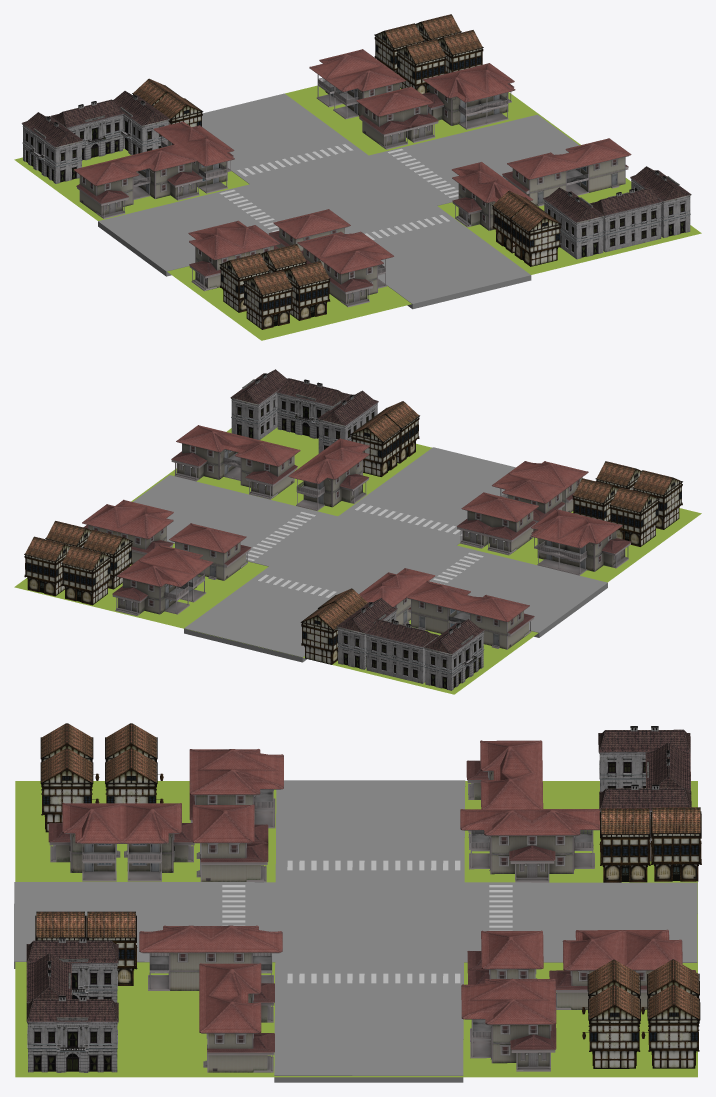
The model's file is road.glb.
The picture shows the model from 3 angles, top to bottom: view 1: azimuth 30°, elevation 25°; view 2: azimuth 150°, elevation 25°; view 3: azimuth 270°, elevation 25°; orthographic projection. The views are drawn at different scales.
Parts seen in each view (by area): view 1: Line002, Plane001, City_building_026.001, City_building_026, City_building_038.001, City_building_022, City_building_022.001, City_building_037.001, City_building_038, City_building_016, City_building_017.001, City_building_010 (+19 smaller); view 2: Line002, Plane001, City_building_026, City_building_026.001, City_building_022.001, City_building_038, City_building_034, City_building_037, City_building_022, City_building_016.001, City_building_017.001, City_building_038.001 (+19 smaller); view 3: Line002, Plane001, City_building_022, City_building_034.001, City_building_038.001, City_building_026, City_building_017, City_building_034, City_building_022.001, City_building_038, City_building_037, City_building_026.001 (+19 smaller).
Boxes of the visible parts, left/top/right/bottom form: Line002: left=98, top=93, right=579, bottom=309; Plane001: left=14, top=85, right=701, bottom=340; City_building_026.001: left=74, top=144, right=202, bottom=218; City_building_026: left=502, top=138, right=631, bottom=206; City_building_038.001: left=422, top=63, right=515, bottom=129; City_building_022: left=297, top=231, right=394, bottom=307; City_building_022.001: left=309, top=49, right=406, bottom=119; City_building_037.001: left=356, top=86, right=438, bottom=149; City_building_038: left=188, top=220, right=280, bottom=291; City_building_016: left=590, top=187, right=662, bottom=252; City_building_017.001: left=21, top=112, right=83, bottom=183; City_building_010: left=543, top=187, right=604, bottom=259; Line002: left=133, top=447, right=607, bottom=662; Plane001: left=14, top=427, right=701, bottom=694; City_building_026: left=171, top=425, right=300, bottom=499; City_building_026.001: left=406, top=580, right=534, bottom=649; City_building_022.001: left=112, top=544, right=213, bottom=615; City_building_038: left=530, top=509, right=631, bottom=575; City_building_034: left=288, top=438, right=369, bottom=510; City_building_037: left=457, top=492, right=538, bottom=555; City_building_022: left=492, top=461, right=588, bottom=531; City_building_016.001: left=365, top=619, right=439, bottom=683; City_building_017.001: left=424, top=619, right=484, bottom=690; City_building_038.001: left=82, top=499, right=173, bottom=563; Line002: left=14, top=780, right=697, bottom=1082; Plane001: left=15, top=781, right=697, bottom=1077; City_building_022: left=48, top=803, right=194, bottom=881; City_building_034.001: left=460, top=809, right=599, bottom=882; City_building_038.001: left=461, top=978, right=556, bottom=1071; City_building_026: left=199, top=963, right=274, bottom=1072; City_building_017: left=26, top=995, right=118, bottom=1072; City_building_034: left=139, top=925, right=282, bottom=990; City_building_022.001: left=549, top=929, right=695, bottom=1009; City_building_038: left=189, top=749, right=283, bottom=828; City_building_037: left=192, top=804, right=268, bottom=882; City_building_026.001: left=466, top=740, right=543, bottom=849.
Bounding box in the file's own units: 294 × 34.16 × 288.
Materials: 9 (6 with a texture image).
